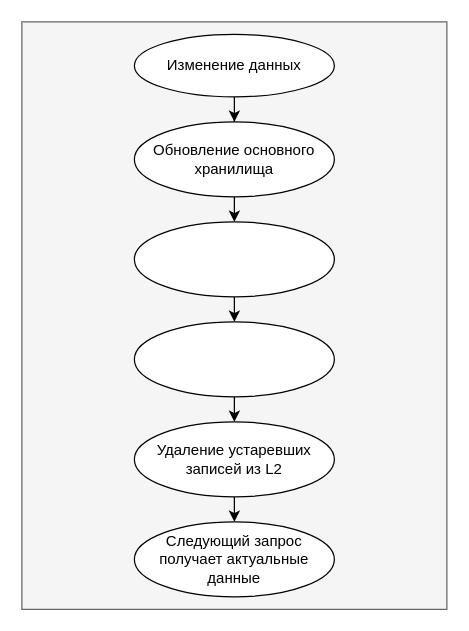
The diagram is 469 pixels wide and 631 high, and some of its shapes have lost their labels. Each missing label, with the centre of its shape:
"Определение связанных ключей кеша" goes at point 233,259.
"Удаление устаревших записей из L1" goes at point 233,359.
